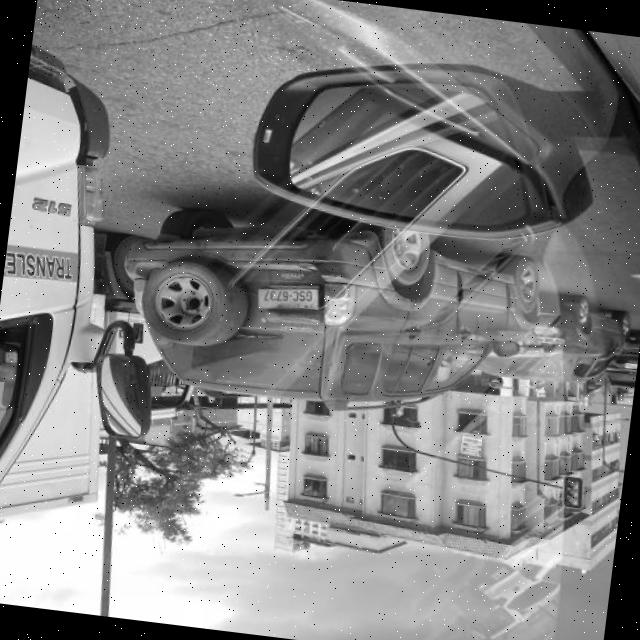Placa: (258, 286, 319, 310)
